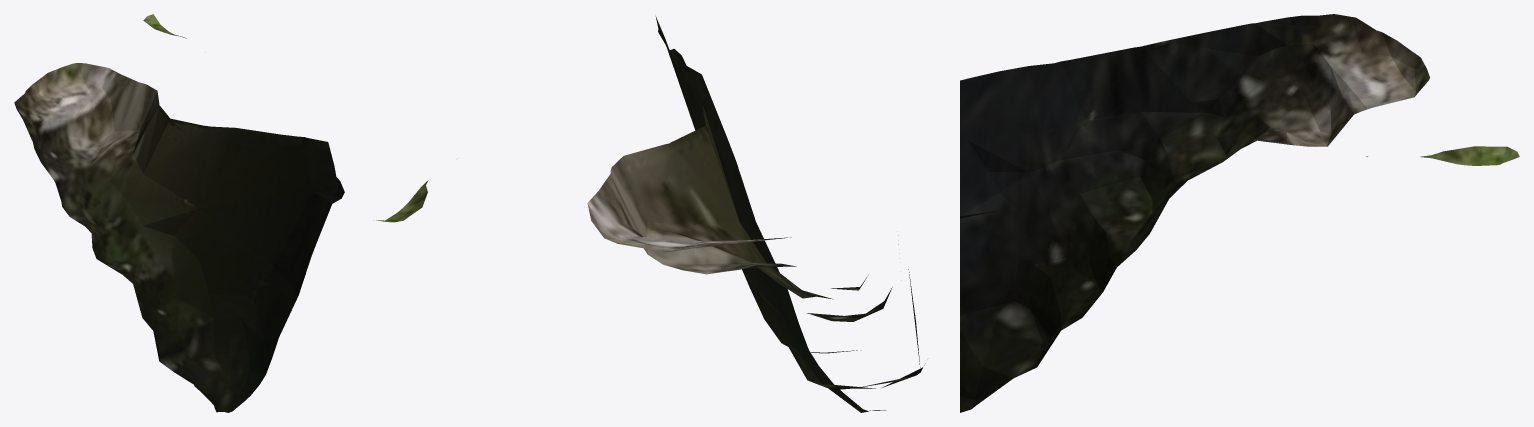
3 views of the same model, side by side, from view 1: azimuth 30°, elevation 25°; view 2: azimuth 150°, elevation 25°; view 3: azimuth 270°, elevation 25° (orthographic). The views are drawn at different scales.
Size of the model in its own units: 1.31 by 1.43 by 2.15.
Materials: 1 (1 with a texture image).
